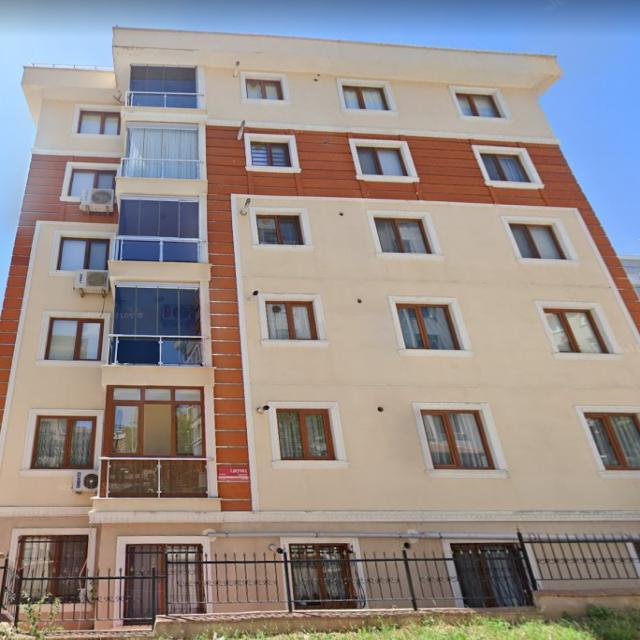Building: (0, 28, 640, 632)
